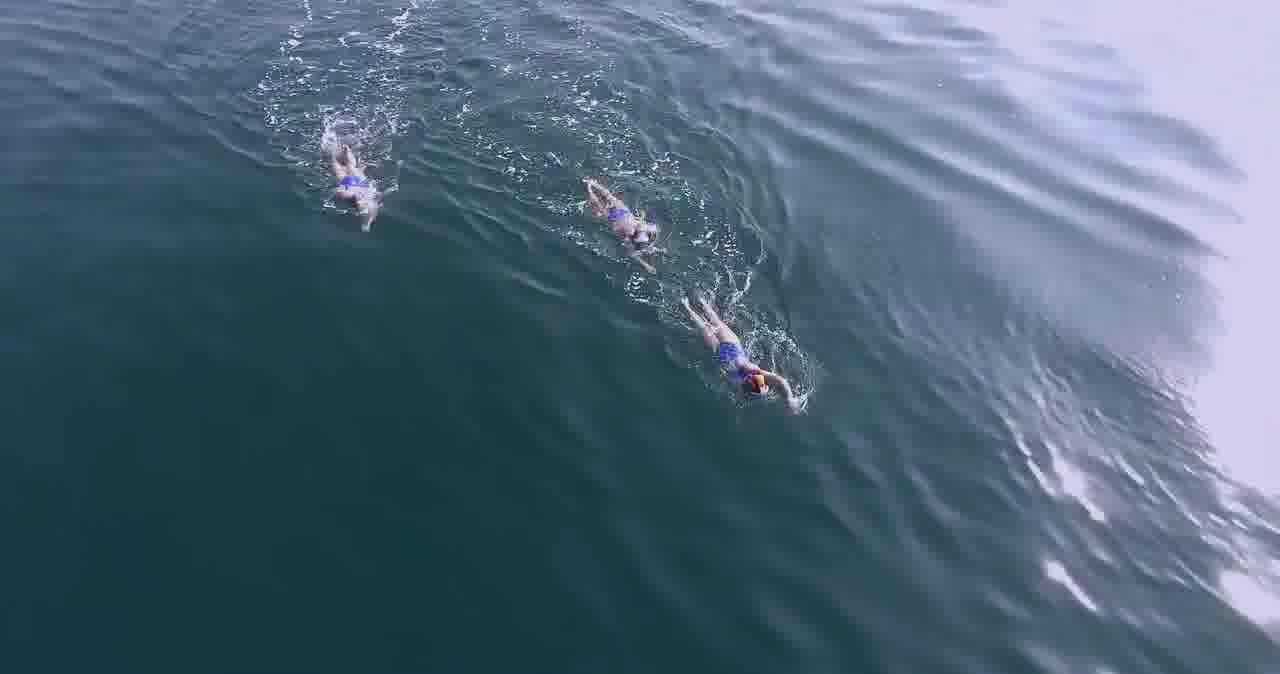swimmer: (684, 291, 807, 416), (583, 170, 664, 268), (316, 148, 393, 226)
